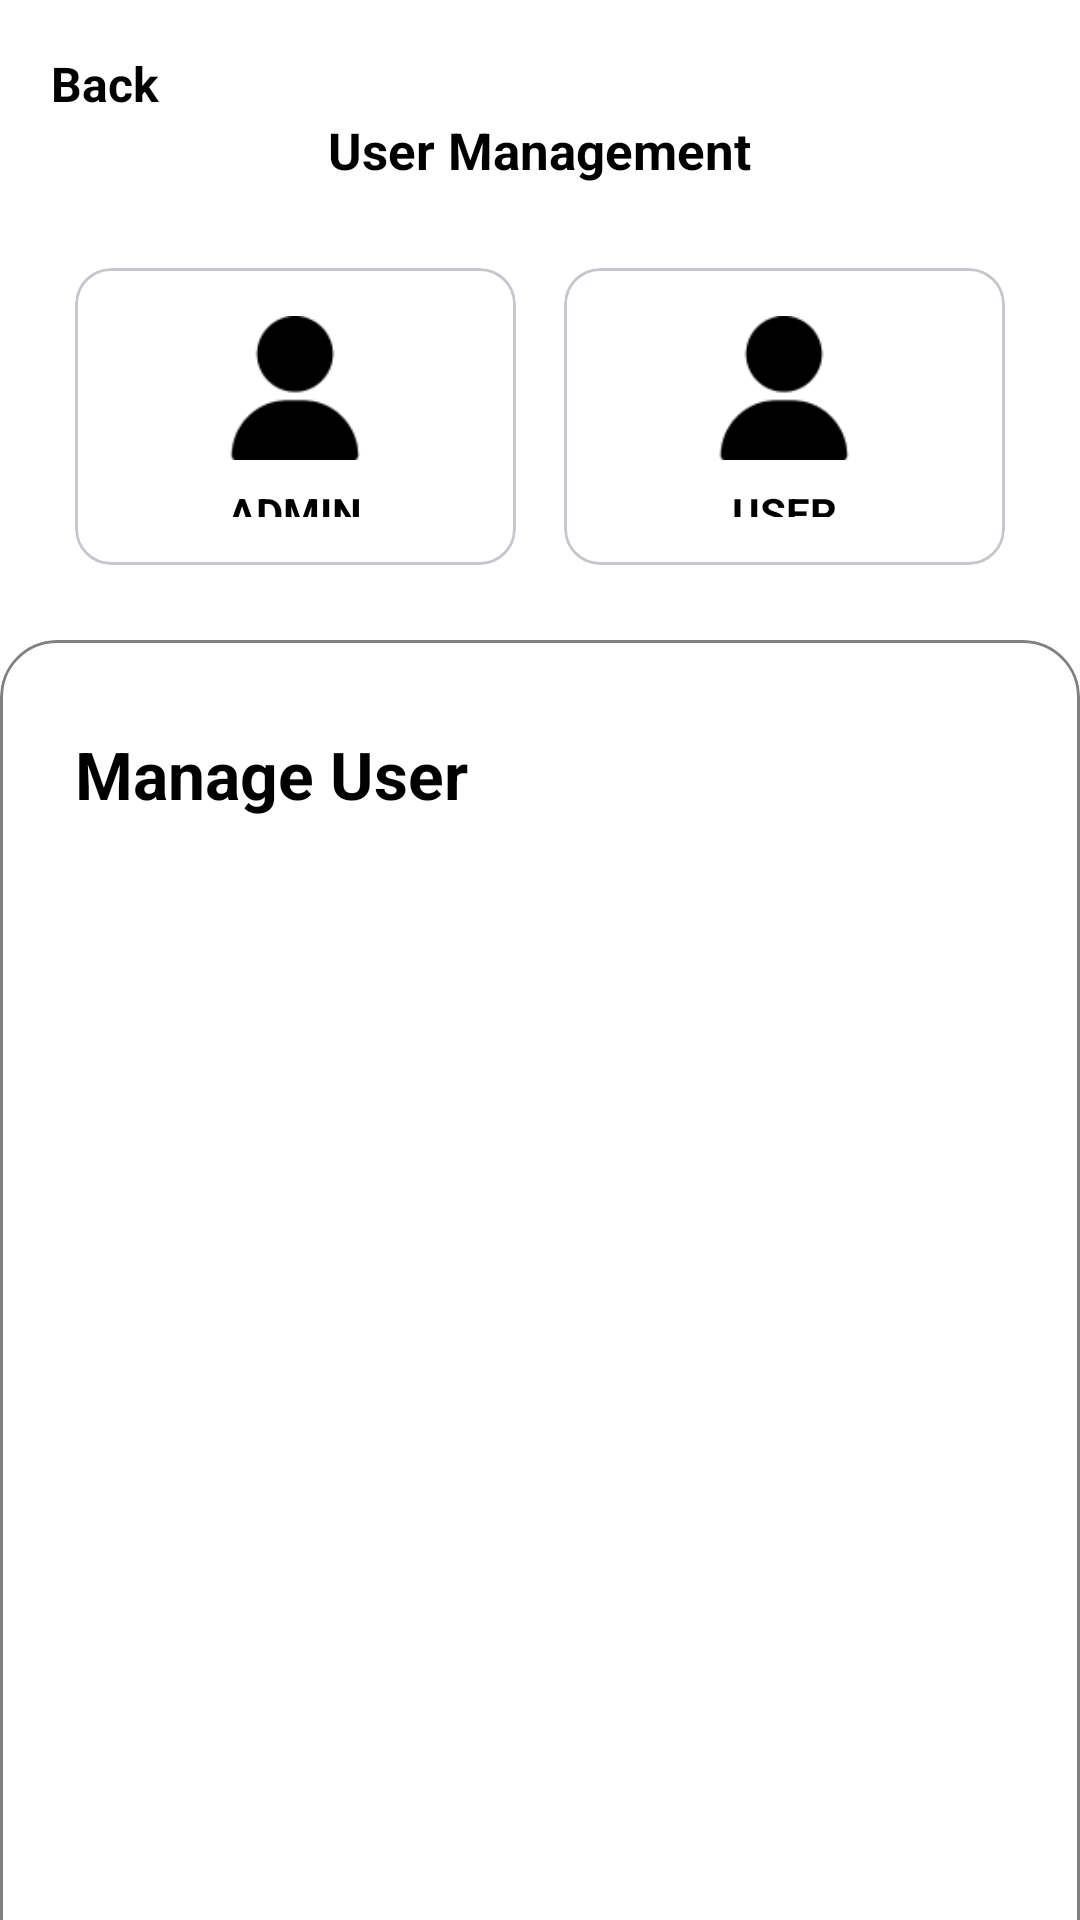

Icon click points for this 1080px×1920px phone screenshot, format [x,y]:
person: [295,388], [784,388]
